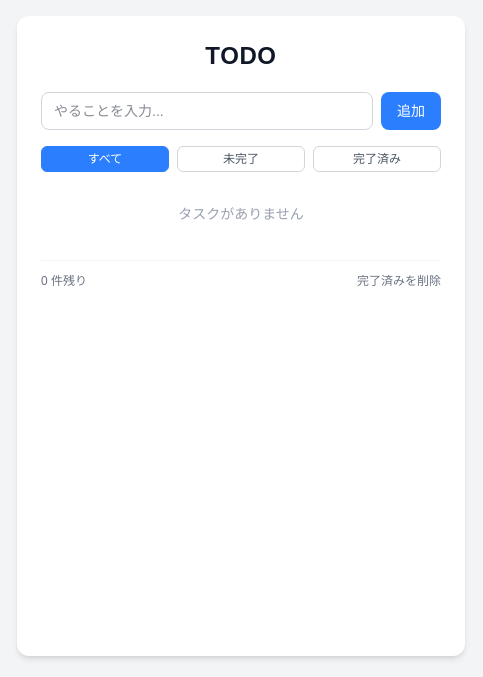
Test: Home (TODO app) › adds a todo, clears the input, and increments the remaining count
In the field with placeholder "やることを入力...": (207, 111) [41,92,373,130], type "牛乳を買う"
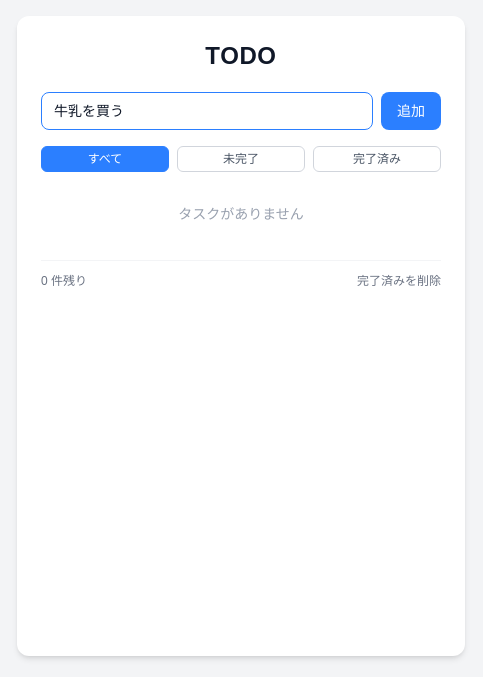
Click the button "追加": click(411, 111) [381,92,441,130]
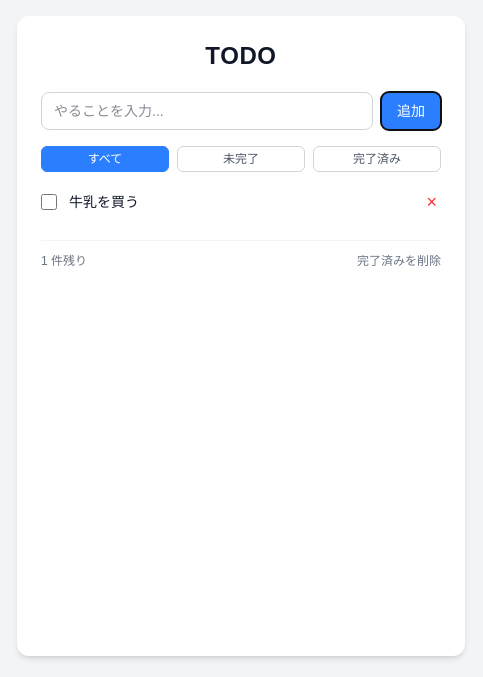
Check: the text "牛乳を買う" is shown, box [69,194,139,210]
Check: the text "1 件残り" is shown, box [41,253,87,269]
Check: the field with placeholder "やることを入力..." is empty, box [41,92,373,130]
